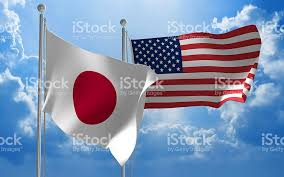Japanese Flag: (35, 21, 163, 169)
